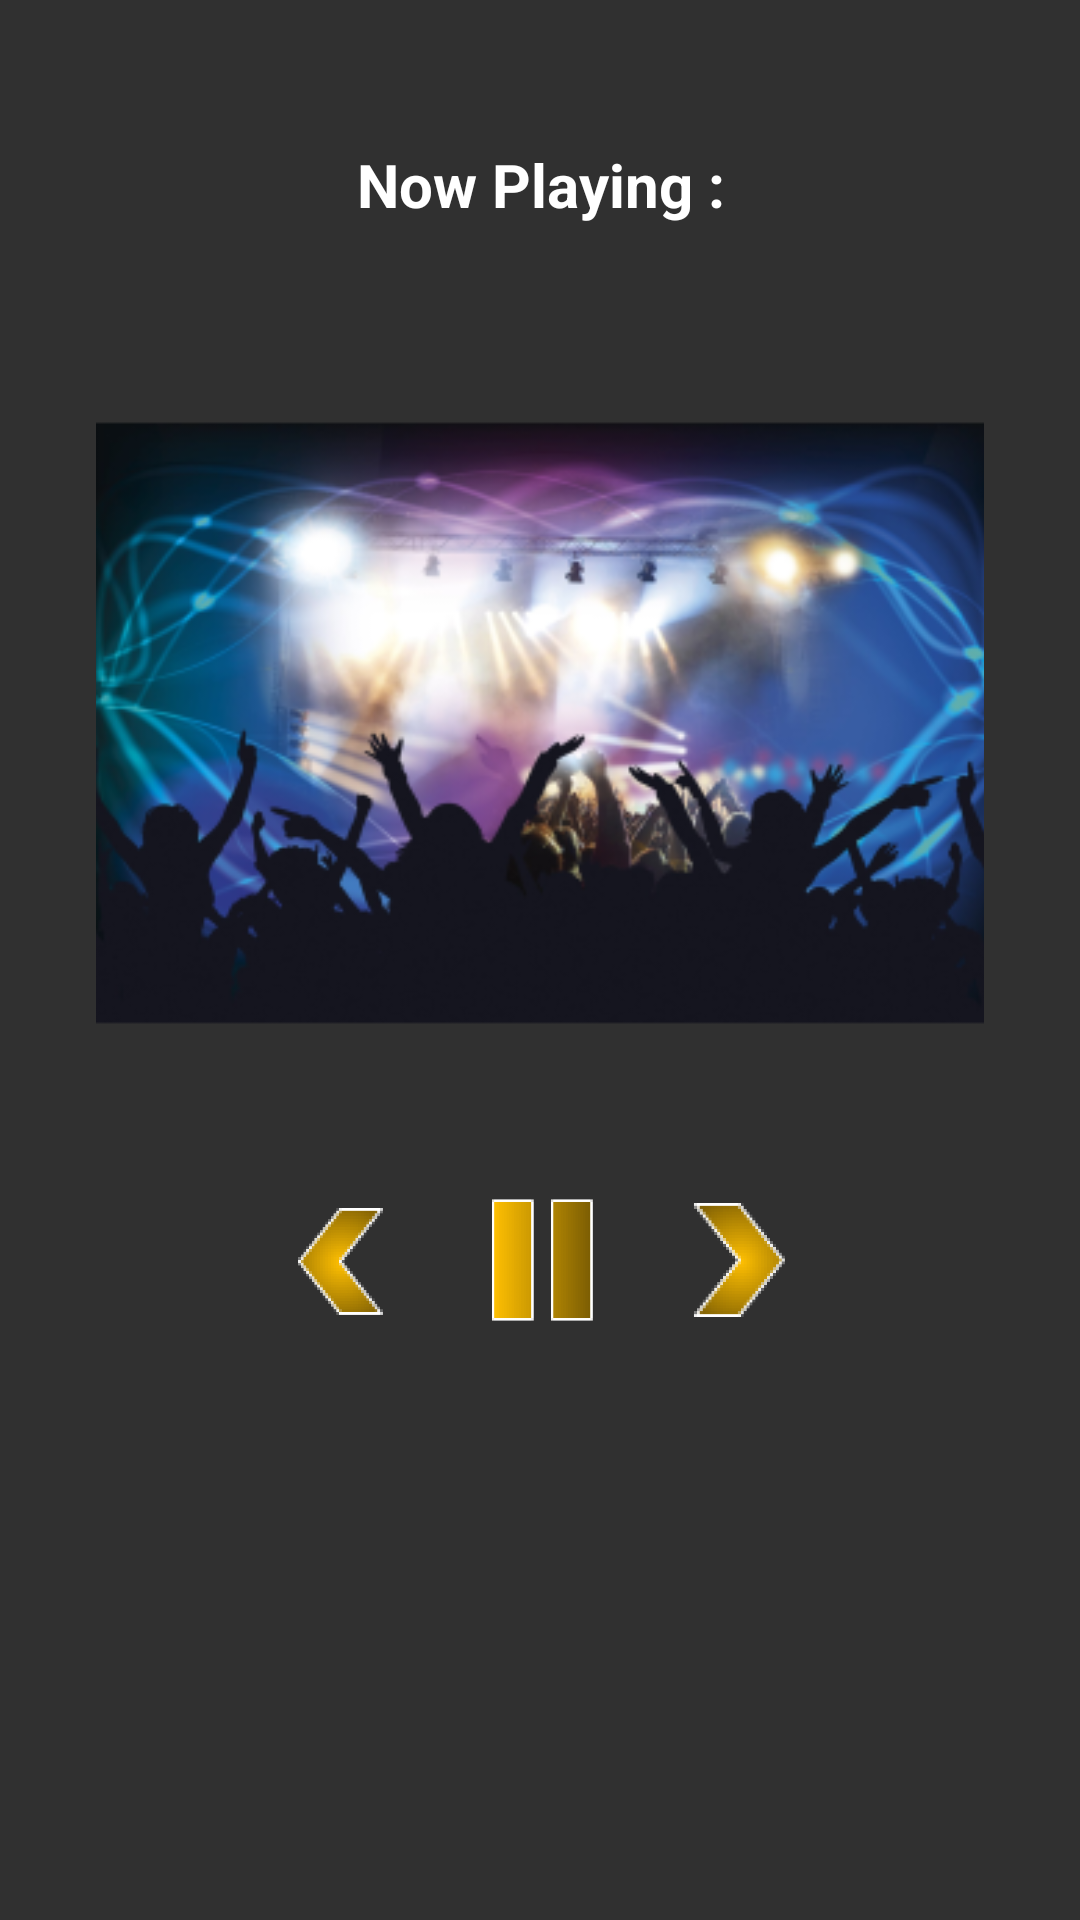

Where icons sit on this 1080w x 1920h app screen, as (x1, y1, x2, y2):
next: (694, 1203, 785, 1317)
pause: (492, 1199, 593, 1321)
previous: (298, 1208, 383, 1315)
